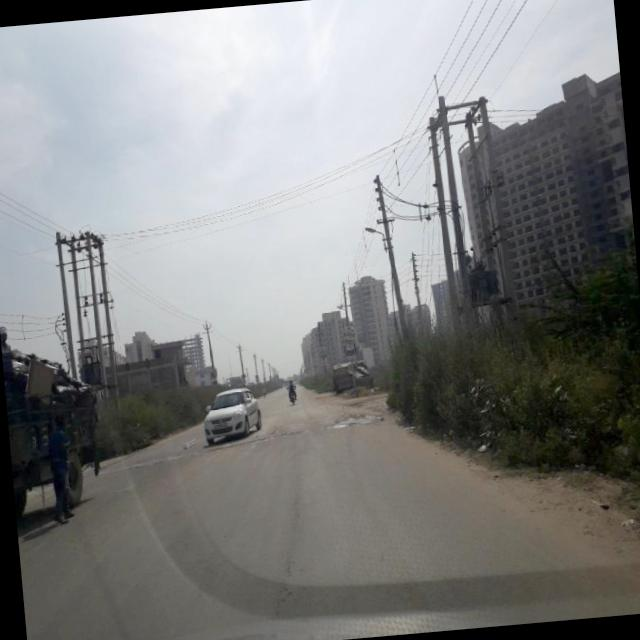pothole: (248, 443, 321, 640)
